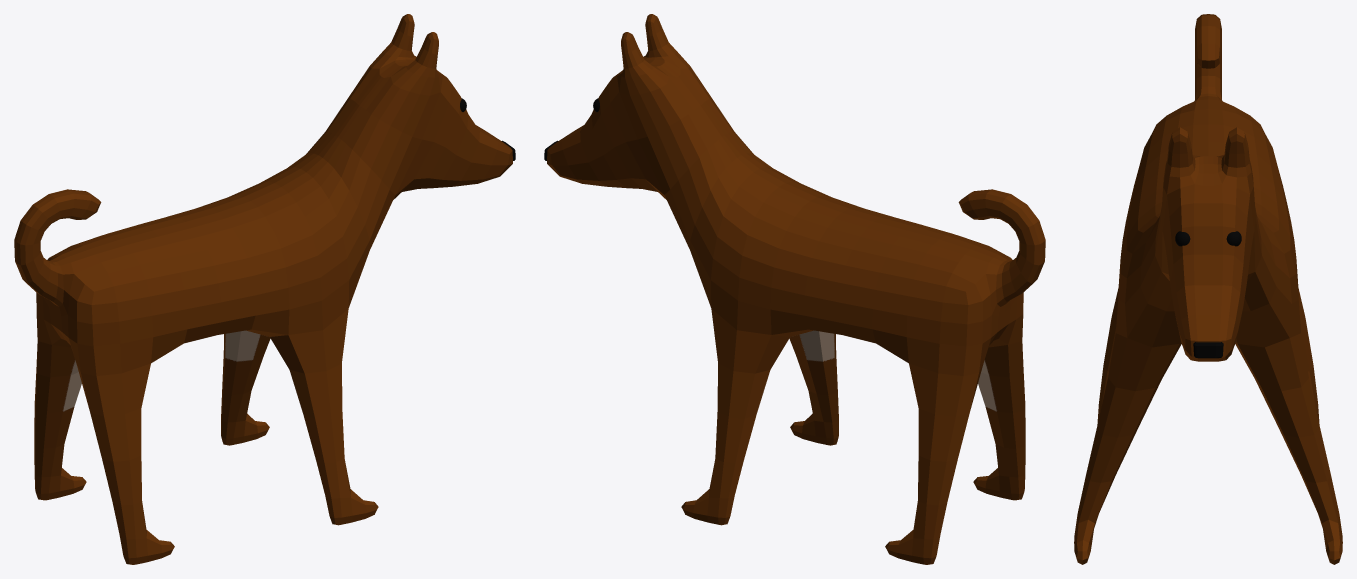
Rendered from SM_Dog.fbx.
3 views of the same model, side by side, from view 1: azimuth 30°, elevation 25°; view 2: azimuth 150°, elevation 25°; view 3: azimuth 270°, elevation 25° (orthographic). The views are drawn at different scales.
Parts seen in each view (by area): view 1: Dog; view 2: Dog; view 3: Dog, 球.
Part boxes in pixels (x1,y1,x2,y2): Dog: (14,14,515,564); Dog: (544,14,1045,564); Dog: (1074,14,1342,564); 球: (1175,231,1241,246).
Bounding box in the file's own units: 1753 × 1457 × 713.
Materials: 2 (1 with a texture image).
